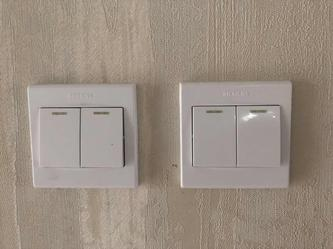switch: (234, 101, 288, 173), (188, 101, 242, 170), (77, 104, 131, 172), (34, 103, 86, 172)
